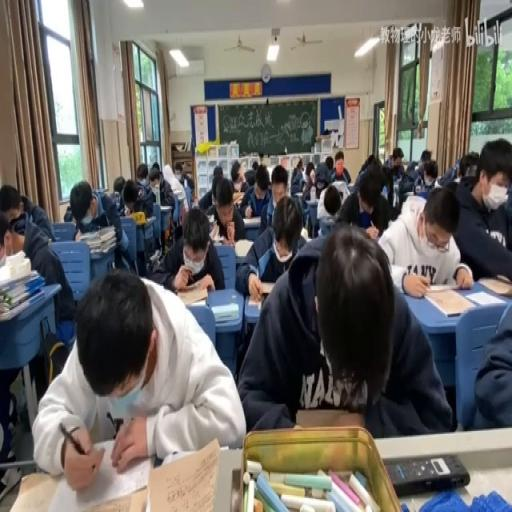calculator: (56, 437, 154, 509), (144, 435, 221, 512), (0, 266, 46, 320), (6, 469, 59, 512), (294, 406, 366, 430), (422, 286, 474, 316), (246, 280, 276, 309), (174, 282, 209, 304), (464, 288, 502, 306), (210, 300, 238, 322), (258, 248, 272, 280), (233, 236, 254, 256), (422, 279, 460, 290), (148, 249, 160, 267), (241, 215, 260, 226), (231, 189, 243, 205), (392, 182, 399, 208), (209, 222, 219, 240), (153, 183, 160, 205), (170, 188, 182, 200), (206, 213, 216, 226), (144, 216, 155, 225), (300, 226, 307, 240), (346, 183, 356, 192), (159, 204, 172, 210), (306, 198, 318, 204), (404, 191, 414, 196)
paper: (34, 264, 245, 484), (238, 219, 446, 438), (378, 179, 468, 292), (149, 200, 223, 294), (64, 178, 127, 273), (469, 296, 511, 428), (336, 165, 394, 236), (0, 184, 53, 244), (205, 174, 247, 243), (238, 162, 273, 228), (142, 161, 177, 219), (314, 182, 344, 238), (406, 154, 438, 202), (290, 159, 310, 218), (435, 155, 460, 185), (382, 147, 405, 179), (330, 151, 350, 185), (458, 151, 478, 176), (112, 176, 126, 210), (92, 186, 106, 216), (230, 161, 244, 186), (136, 164, 149, 188), (182, 174, 194, 196), (419, 148, 432, 163), (245, 168, 254, 186), (174, 165, 183, 183), (430, 176, 442, 188), (324, 155, 334, 169), (180, 203, 186, 225), (306, 164, 314, 179), (366, 154, 376, 165), (213, 164, 222, 176), (211, 191, 218, 206), (295, 158, 302, 169), (252, 161, 258, 169)
person: (386, 454, 470, 496)
